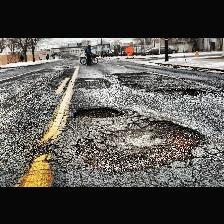pothole: (74, 116, 206, 173), (72, 105, 124, 117), (169, 87, 205, 95)
